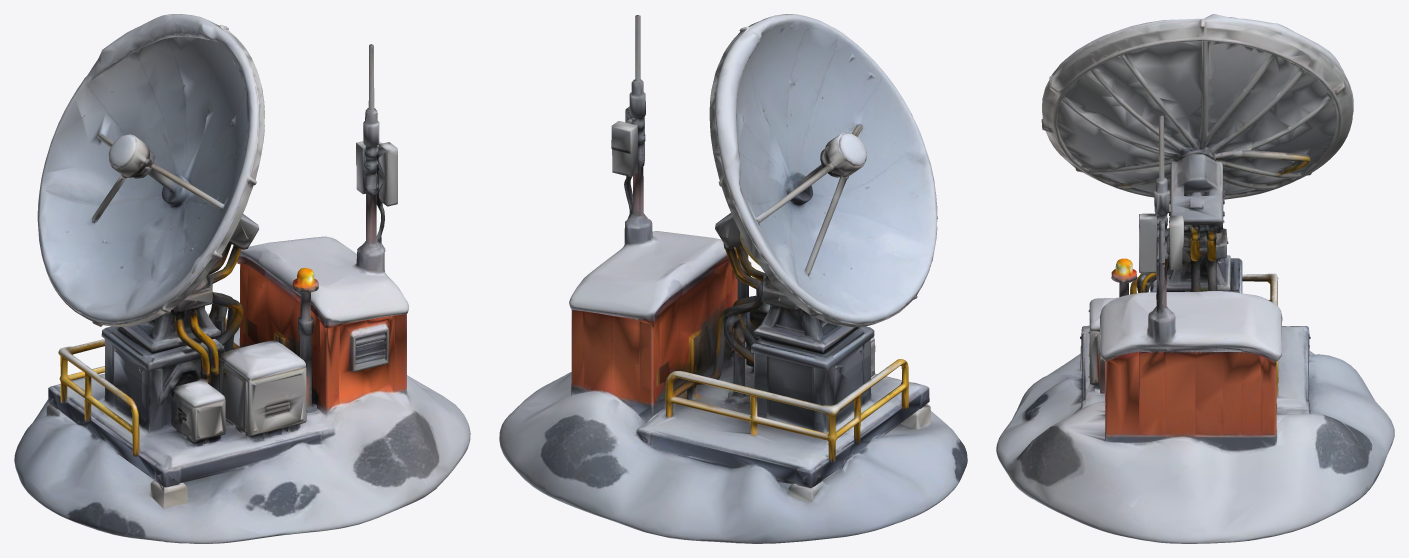
The model's file is antena-parabolica-web.glb.
3 renders of one model, left to right at view 1: azimuth 30°, elevation 25°; view 2: azimuth 150°, elevation 25°; view 3: azimuth 270°, elevation 25°, orthographic. The views are drawn at different scales.
Visible parts, largest first — view 1: node_0; view 2: node_0; view 3: node_0.
Part boxes in pixels (box(x1,y1,x2,y2)): node_0: box(14, 14, 470, 543); node_0: box(499, 14, 967, 543); node_0: box(996, 14, 1394, 543).
Bounding box in the file's own units: 0.8468 × 0.8492 × 0.7328.
Materials: 1 (1 with a texture image).
